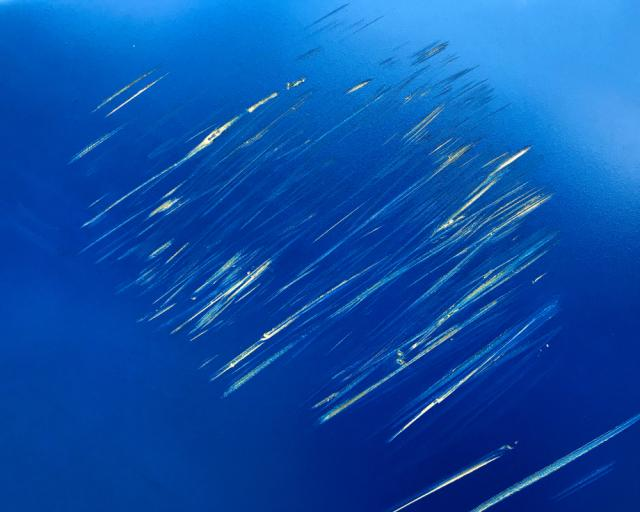scratch: (66, 0, 568, 512)
